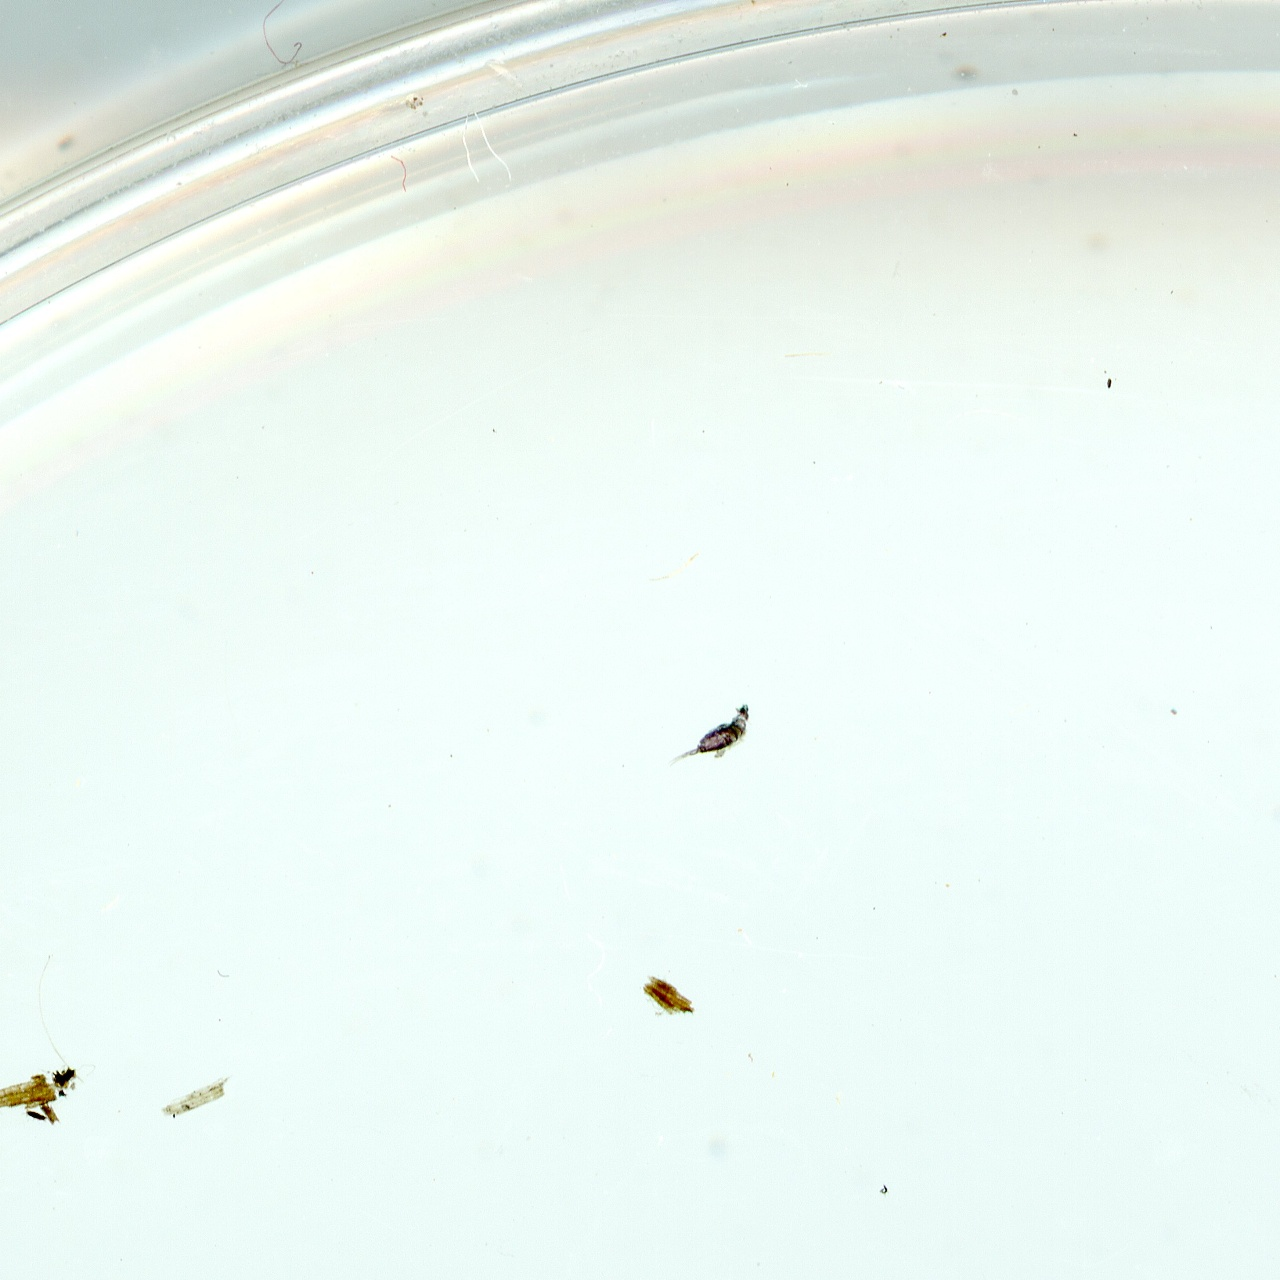arthropod: (656, 683, 769, 801)
